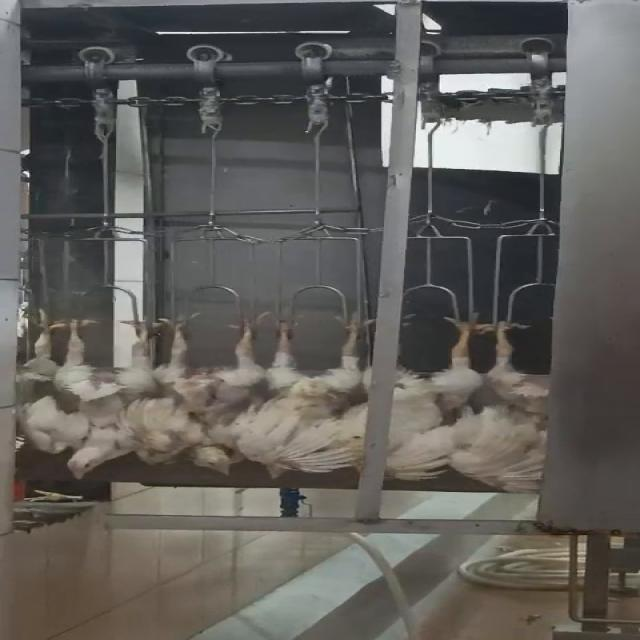chicken: (255, 306, 382, 481), (52, 313, 184, 480), (366, 306, 488, 482), (153, 303, 269, 479), (466, 309, 546, 494), (0, 304, 69, 453)
